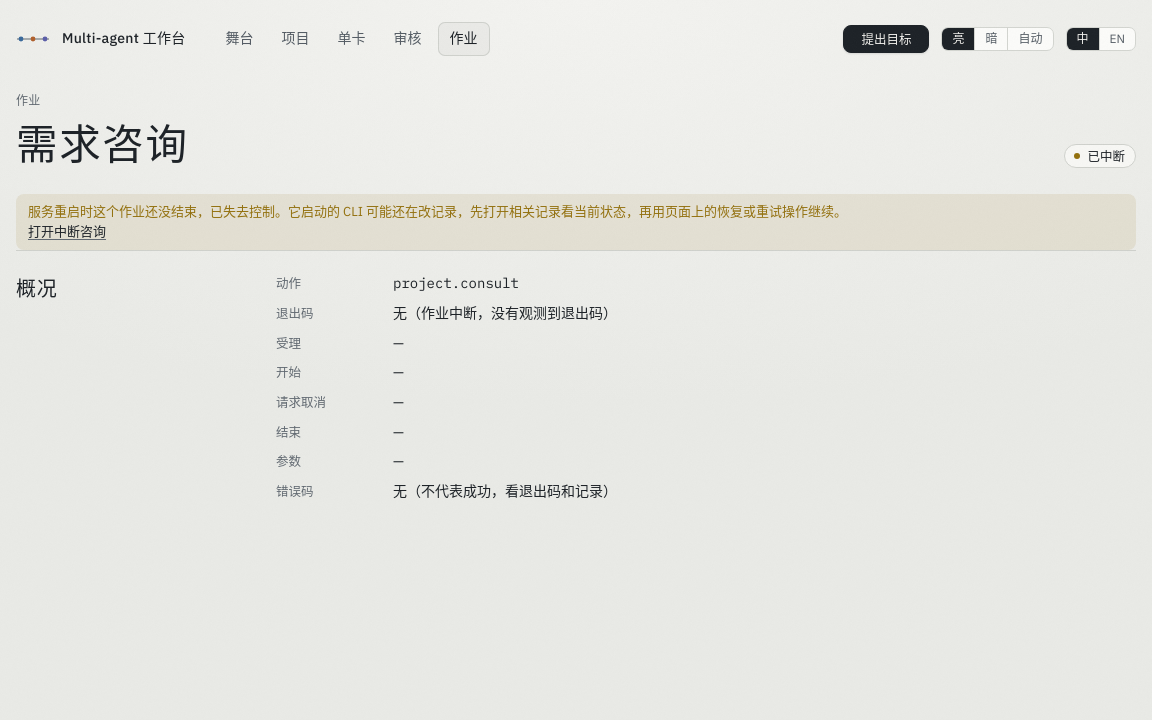
Test case: opens the interrupted consultation from the job and preserves the first seat after reconciliation
The image size is (1152, 720).
Click the link "打开中断咨询" at (67, 232), box [28,223,106,240]
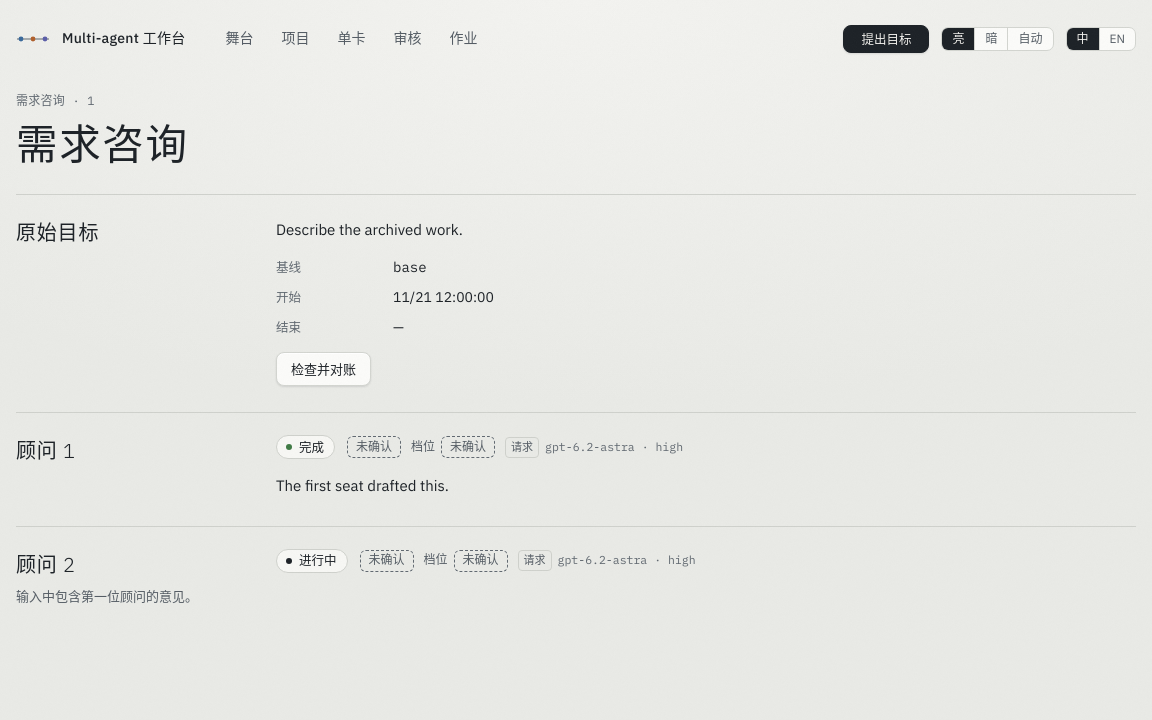
Now the button "检查并对账" is enabled
Click the button "检查并对账" at (324, 369), box [276,352,371,386]
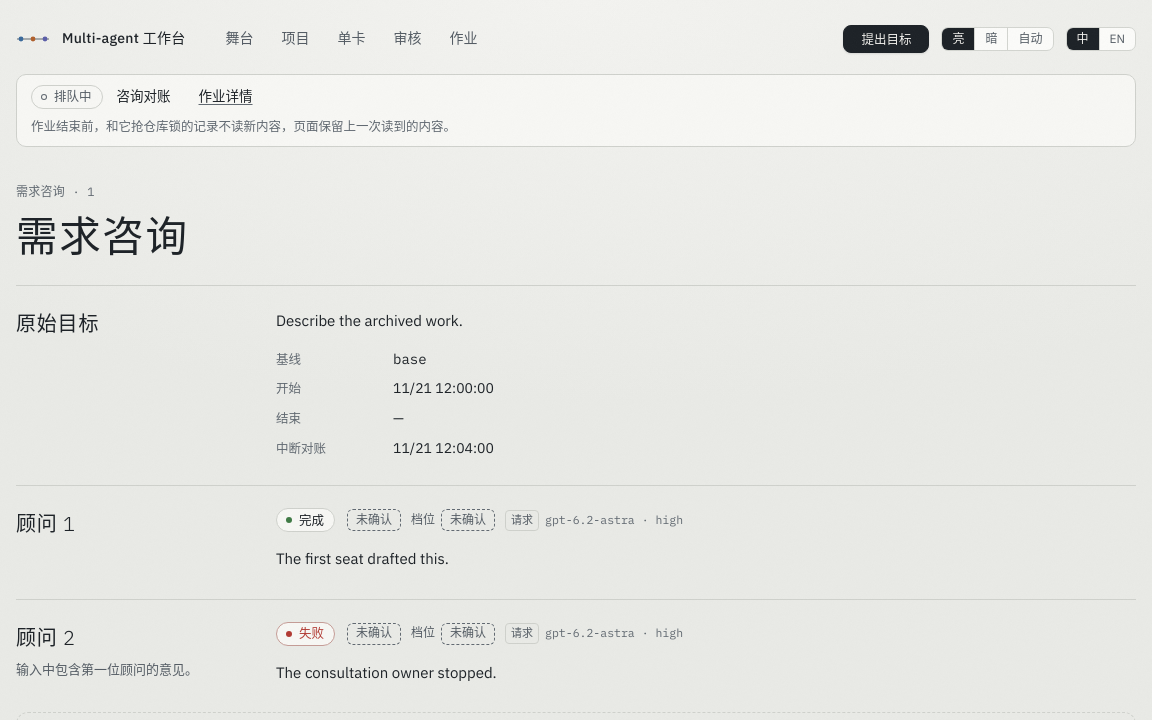
Now the text "The first seat drafted this." is shown, box [276,549,449,568]
Now the text "The consultation owner stopped." is shown, box [276,663,497,682]
Now the button "检查并对账" is gone
